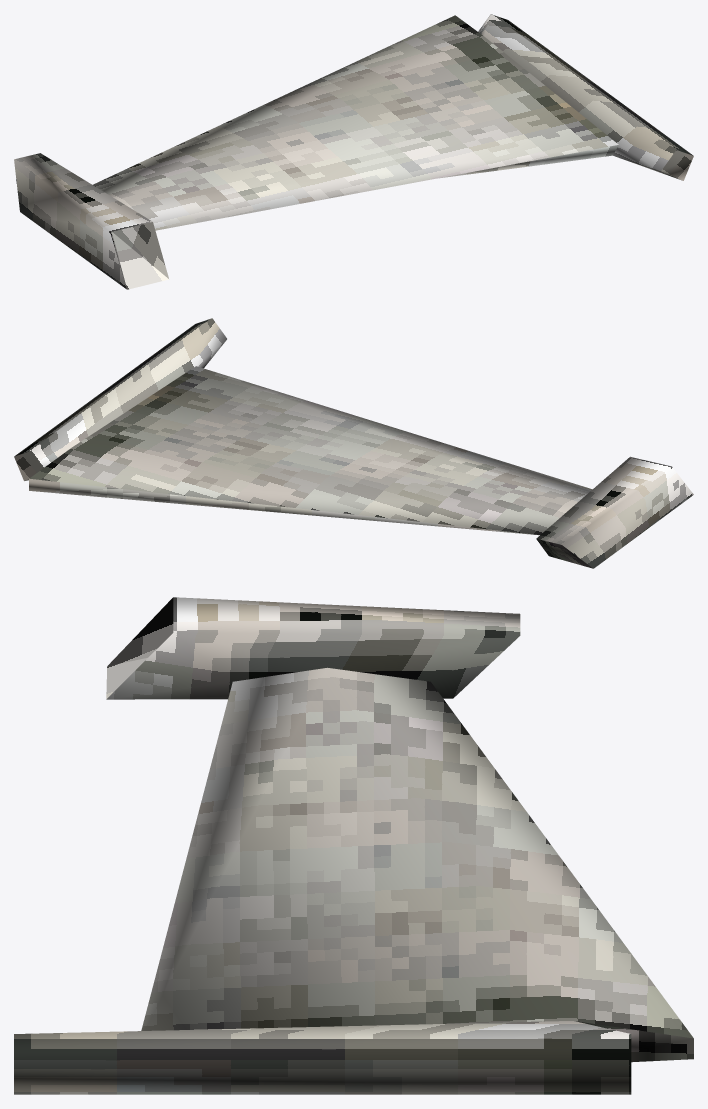
The model's file is bwing_wing_l_l2.fbx.
3 renders of one model, top to bottom at view 1: azimuth 30°, elevation 25°; view 2: azimuth 150°, elevation 25°; view 3: azimuth 270°, elevation 25°, orthographic. The views are drawn at different scales.
Parts seen in each view (by area): view 1: mesh_node; view 2: mesh_node; view 3: mesh_node.
Part boxes in pixels (x1,y1,x2,y2): mesh_node: [14, 14, 693, 289]; mesh_node: [14, 318, 693, 568]; mesh_node: [14, 597, 693, 1094].
Bounding box in the file's own units: 4.76 × 0.3607 × 3.12.
